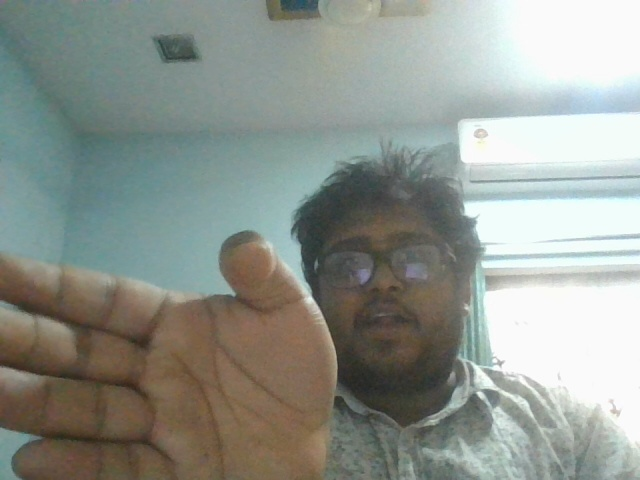RIGHT: (1, 216, 357, 480)
